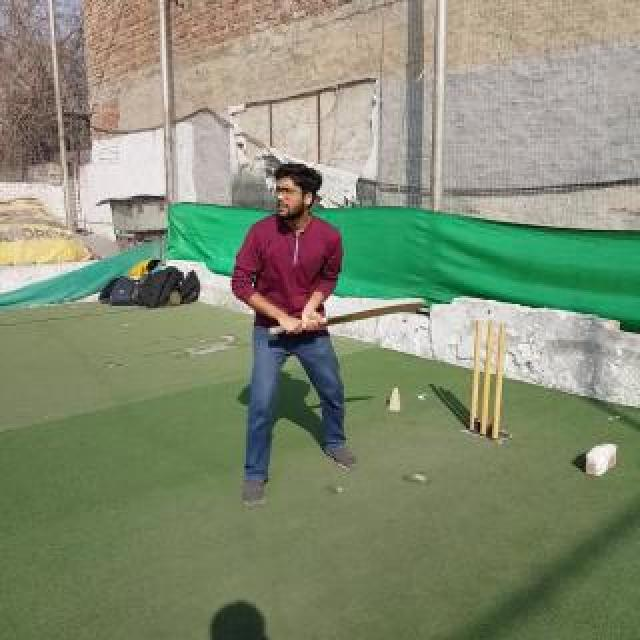bat: (270, 298, 426, 336)
